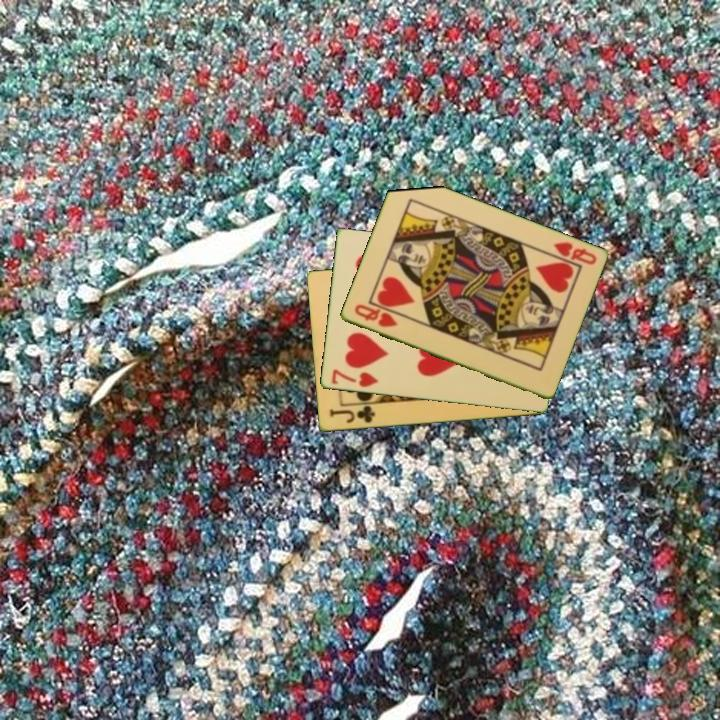7h: (328, 366, 380, 390)
Jc: (326, 402, 377, 426)
Qh: (350, 301, 400, 331), (549, 238, 599, 268)
